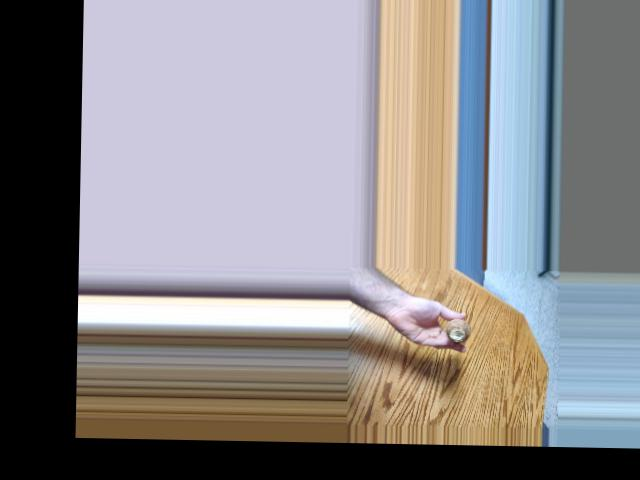sweet_potato: (448, 315, 471, 342)
